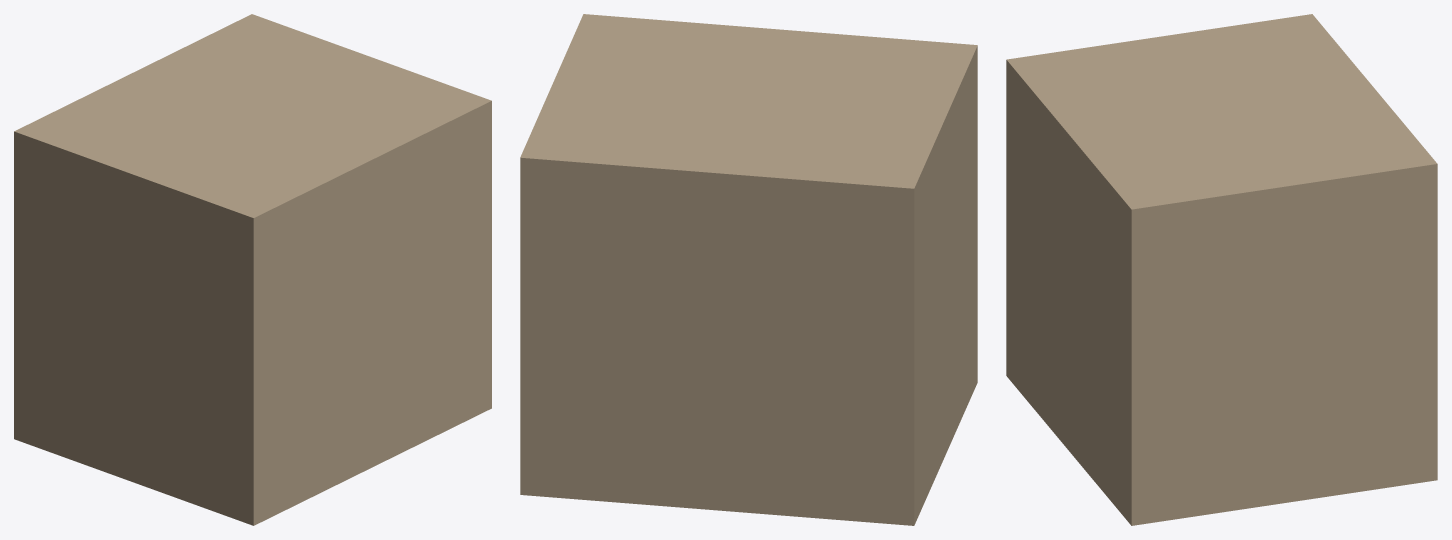
The model's file is bld_106796625.dae.
The picture shows the model from 3 angles, left to right: view 1: azimuth 30°, elevation 25°; view 2: azimuth 150°, elevation 25°; view 3: azimuth 270°, elevation 25°; orthographic projection. The views are drawn at different scales.
Parts seen in each view (by area): view 1: bld_106796625; view 2: bld_106796625; view 3: bld_106796625.
Part boxes in pixels (bbox=[...]): bld_106796625: bbox=[14, 14, 491, 525]; bld_106796625: bbox=[520, 14, 977, 525]; bld_106796625: bbox=[1006, 14, 1437, 525].
Bounding box in the file's own units: 10.61 × 9.88 × 8.
